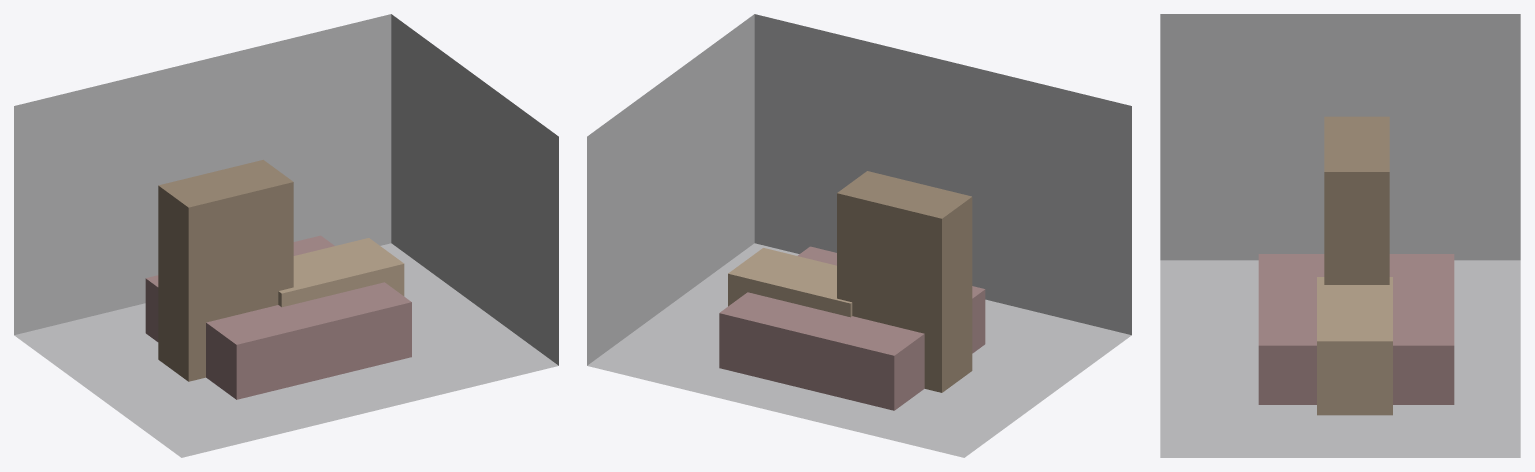
The model's file is current_layout.glb.
3 views of the same model, side by side, from view 1: azimuth 30°, elevation 25°; view 2: azimuth 150°, elevation 25°; view 3: azimuth 270°, elevation 25° (orthographic). The views are drawn at different scales.
Visible parts, largest first — view 1: room, wardrobe, bed, desk; view 2: room, wardrobe, bed, desk; view 3: room, bed, wardrobe, desk.
Boxes of the visible parts, bbox=[...] form: room: bbox=[14, 14, 558, 457]; wardrobe: bbox=[158, 159, 293, 381]; bed: bbox=[145, 235, 411, 399]; desk: bbox=[278, 238, 404, 307]; room: bbox=[587, 14, 1131, 457]; wardrobe: bbox=[837, 171, 972, 392]; bed: bbox=[719, 246, 985, 410]; desk: bbox=[728, 248, 852, 317]; room: bbox=[1160, 14, 1520, 457]; bed: bbox=[1258, 254, 1454, 404]; wardrobe: bbox=[1324, 116, 1389, 284]; desk: bbox=[1317, 277, 1392, 415].
Bounding box in the file's own units: 4.31 × 2.5 × 3.31.
